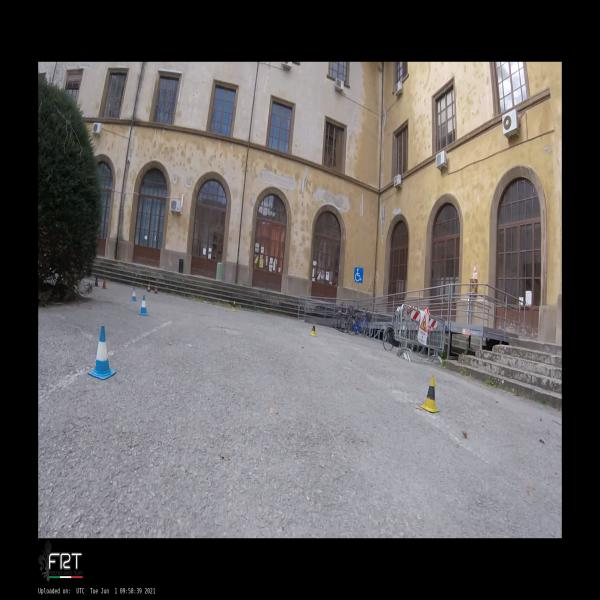blue_cone: (88, 326, 117, 380), (139, 295, 148, 316), (130, 288, 137, 302)
orange_cone: (147, 282, 151, 293), (154, 284, 158, 294)
unknown_cone: (100, 277, 108, 289), (93, 276, 100, 287)
yellow_cone: (420, 376, 439, 413), (310, 324, 317, 337), (232, 300, 236, 312)
